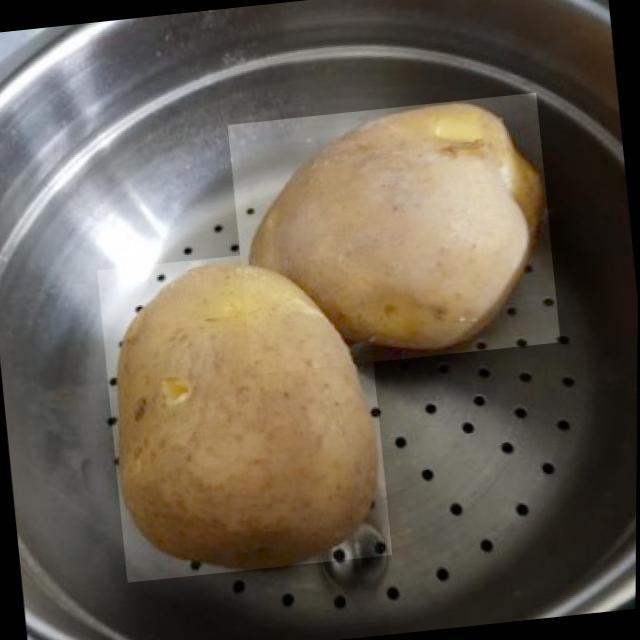Potato: (94, 242, 393, 582), (225, 92, 562, 374)
